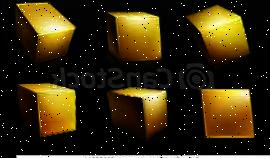cube: (105, 88, 169, 141), (103, 10, 163, 62)
